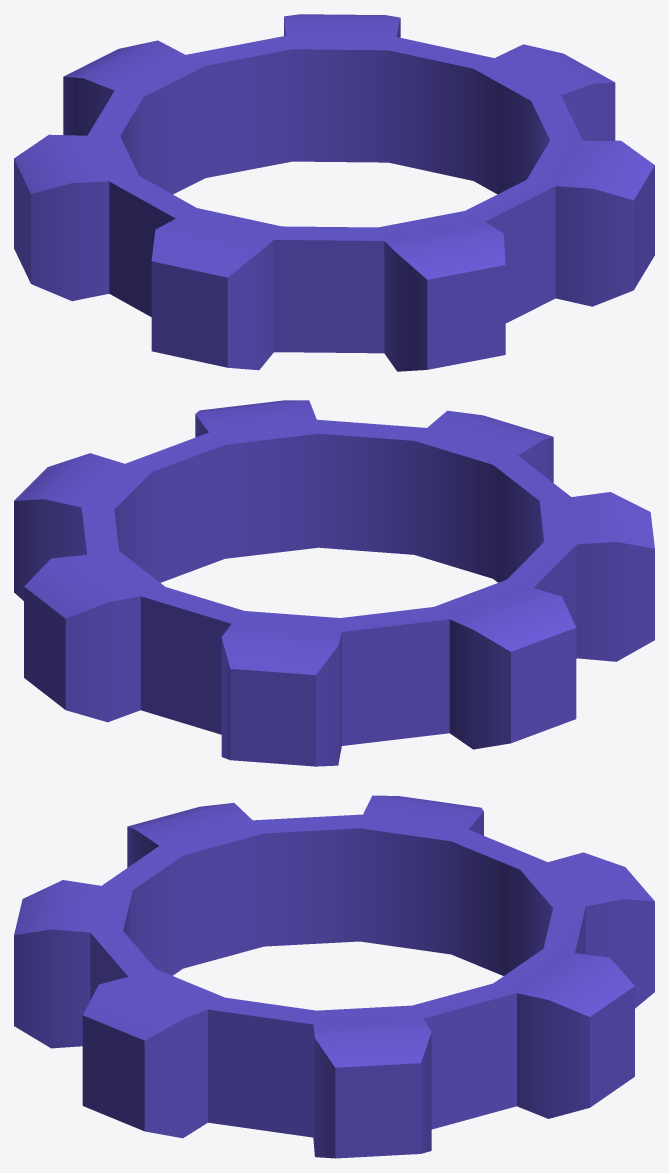
File: gear_A.FBX
3 views of the same model, one above another, from view 1: azimuth 30°, elevation 25°; view 2: azimuth 150°, elevation 25°; view 3: azimuth 270°, elevation 25° (orthographic).
Visible parts, largest first — view 1: pillar_gearA; view 2: pillar_gearA; view 3: pillar_gearA.
Part boxes in pixels (<box>): pillar_gearA: <box>14,14,654,371</box>; pillar_gearA: <box>14,400,654,766</box>; pillar_gearA: <box>14,795,654,1158</box>.
Bounding box in the file's own units: 10.3 × 2.1 × 10.27.
